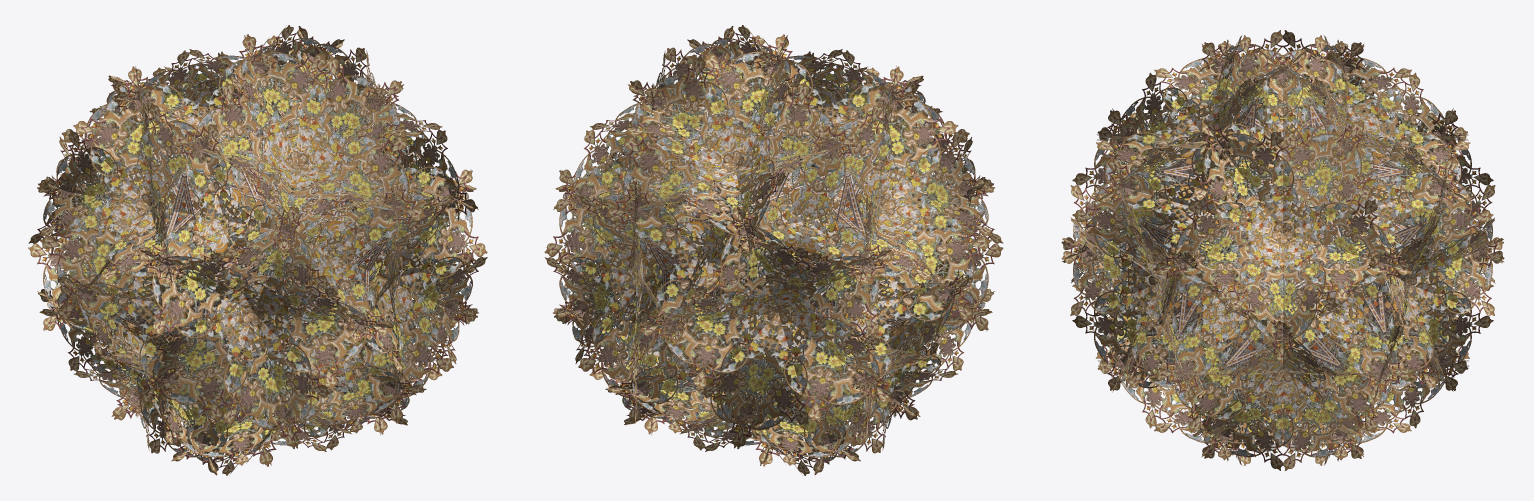
Rendered from GreatDodecicosahedron13.gltf.
3 views of the same model, side by side, from view 1: azimuth 30°, elevation 25°; view 2: azimuth 150°, elevation 25°; view 3: azimuth 270°, elevation 25° (orthographic). The views are drawn at different scales.
Visible parts, largest first — view 1: GreatDodecicosahedron; view 2: GreatDodecicosahedron; view 3: GreatDodecicosahedron.
Boxes of the visible parts, x1,y1,x2,y2 form: GreatDodecicosahedron: [28, 25, 487, 475]; GreatDodecicosahedron: [544, 25, 1003, 475]; GreatDodecicosahedron: [1061, 30, 1504, 470].
Size of the model in its own units: 2.24 by 2.24 by 2.24.
Materials: 1 (1 with a texture image).
